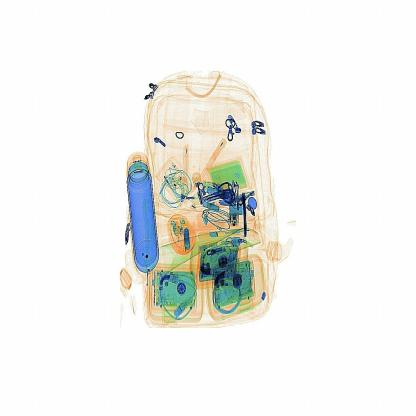knife: (234, 182, 258, 242)
